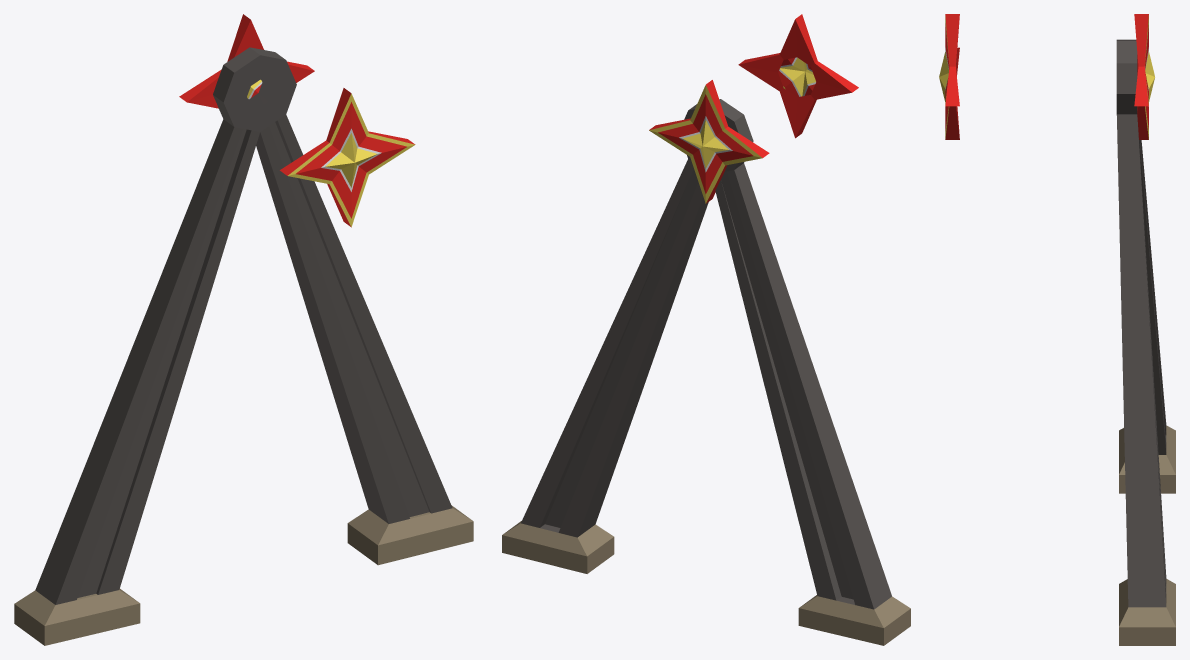
Rendered from ferrisWheelStand.fbx.
3 views of the same model, side by side, from view 1: azimuth 30°, elevation 25°; view 2: azimuth 150°, elevation 25°; view 3: azimuth 270°, elevation 25° (orthographic). The views are drawn at different scales.
Visible parts, largest first — view 1: Ferris Wheel Stand; view 2: Ferris Wheel Stand; view 3: Ferris Wheel Stand.
Boxes of the visible parts, x1,y1,x2,y2 form: Ferris Wheel Stand: [14, 14, 473, 645]; Ferris Wheel Stand: [502, 14, 910, 645]; Ferris Wheel Stand: [939, 14, 1175, 645].
Bounding box in the file's own units: 933 × 475 × 1181.
